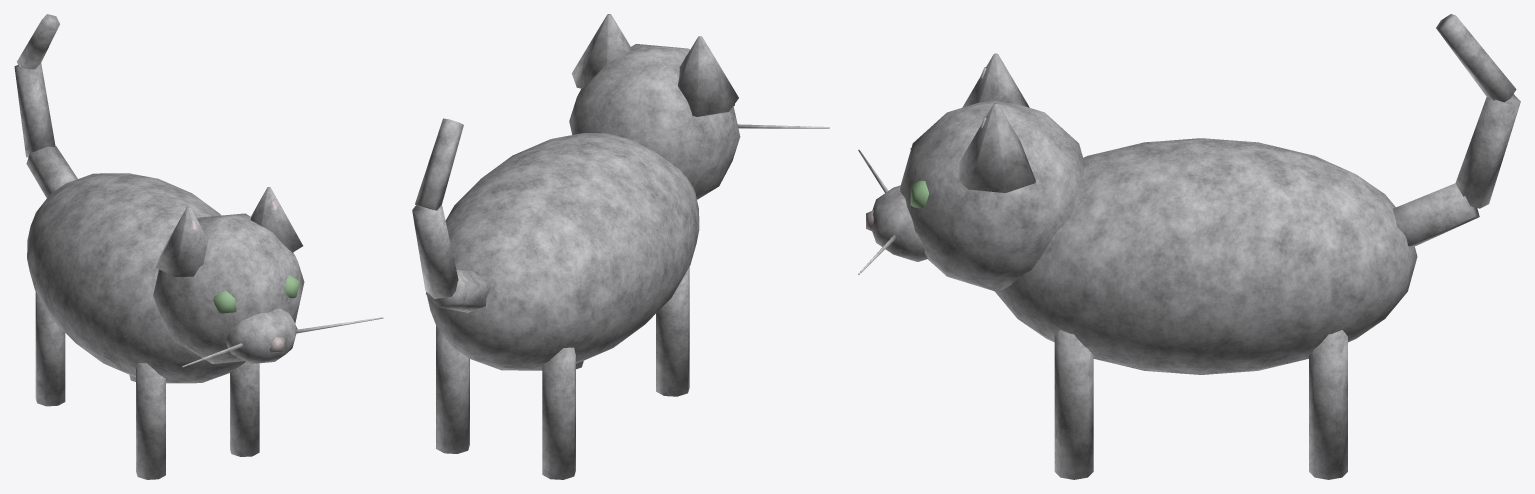
The model's file is mob_kucing.obj.
The picture shows the model from 3 angles, left to right: view 1: azimuth 30°, elevation 25°; view 2: azimuth 150°, elevation 25°; view 3: azimuth 270°, elevation 25°; orthographic projection. The views are drawn at different scales.
Visible parts, largest first — view 1: mob_kucing; view 2: mob_kucing; view 3: mob_kucing.
Part boxes in pixels (x1=…): mob_kucing: x1=14, y1=14, x2=383, y2=479; mob_kucing: x1=412, y1=14, x2=829, y2=479; mob_kucing: x1=858, y1=14, x2=1520, y2=479.
Bounding box in the file's own units: 0.3741 × 0.6 × 0.8432.
1 material, 1 textured.
